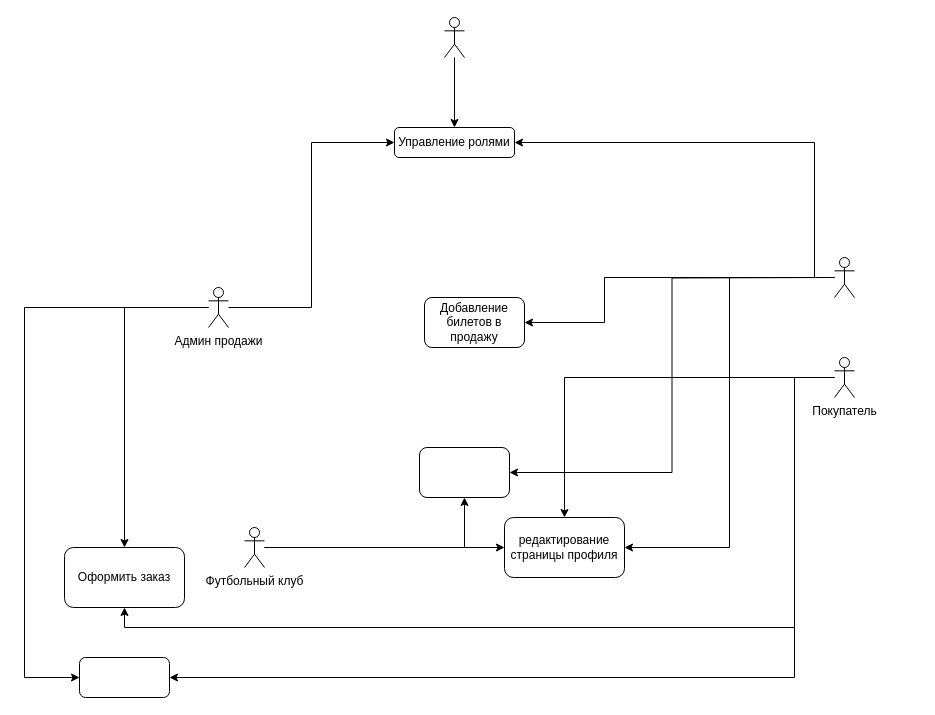
The diagram is 935 pixels wide and 715 high, and some of its shapes have lost their labels. The box of each missing label's shape, as (x1, y1, x2, y2) in pixels:
Админ футбольного клуба: (834, 256, 854, 298)
Выдача скидки: (78, 656, 170, 698)
Глобальный админ: (444, 16, 464, 58)
подать заявление на продажу билетов: (418, 446, 510, 498)
